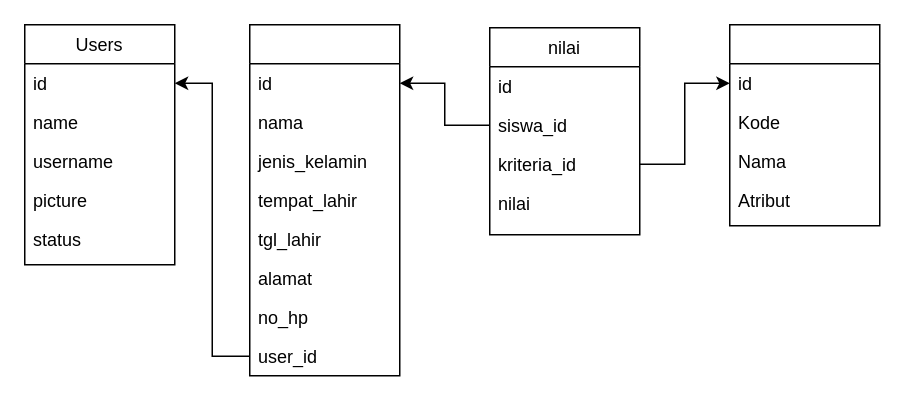
Image size: 905x401. Some labels were removed from this diagram. The box of each missing label's shape, as (x1, y1, x2, y2) in pixels:
Kriteria: (728, 23, 880, 226)
Siswa: (248, 23, 400, 376)
